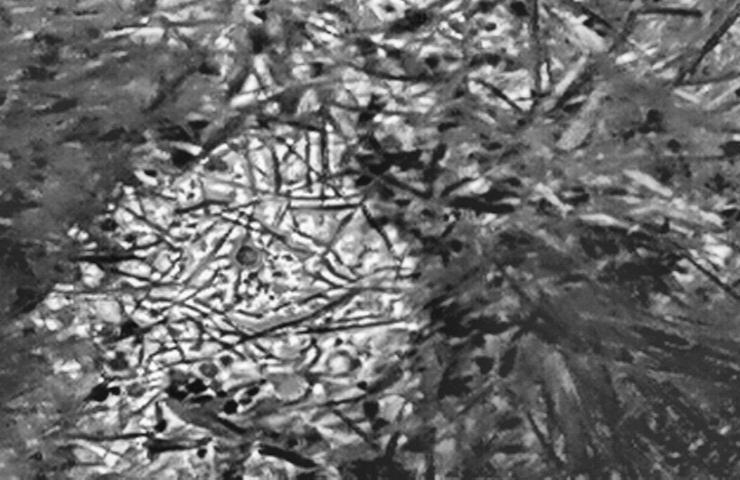landmines: (77, 112, 441, 458)
